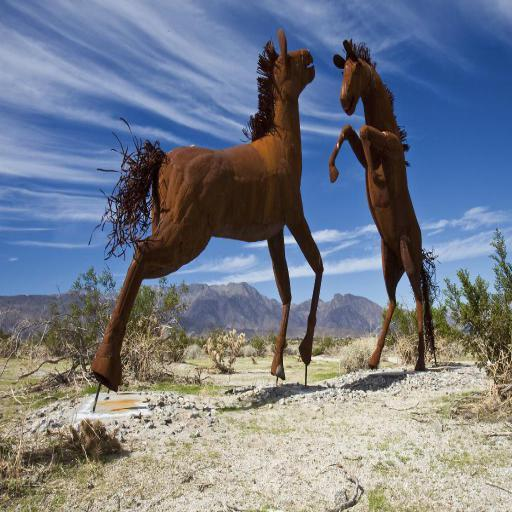horse: (90, 29, 326, 394), (328, 38, 436, 371)
